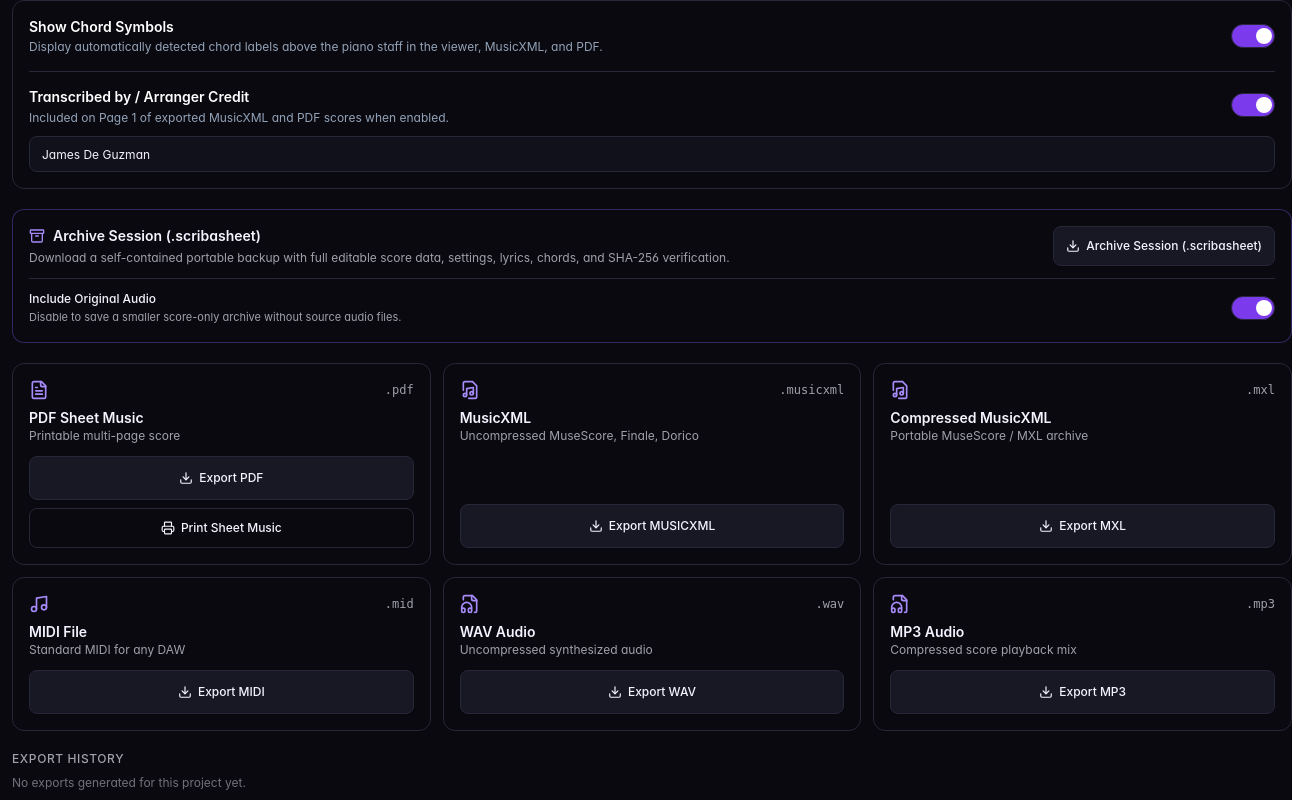
it: ExportCenter Show Chord Symbols toggle › defaults to ON, toggles OFF/ON without re-transcribing, and sends include_chords on export
Later steps or results of the test are not shown.
Step 1. Click the switch named "show chord symbols" → x=1253, y=36, box 1231,24 -> 1275,48
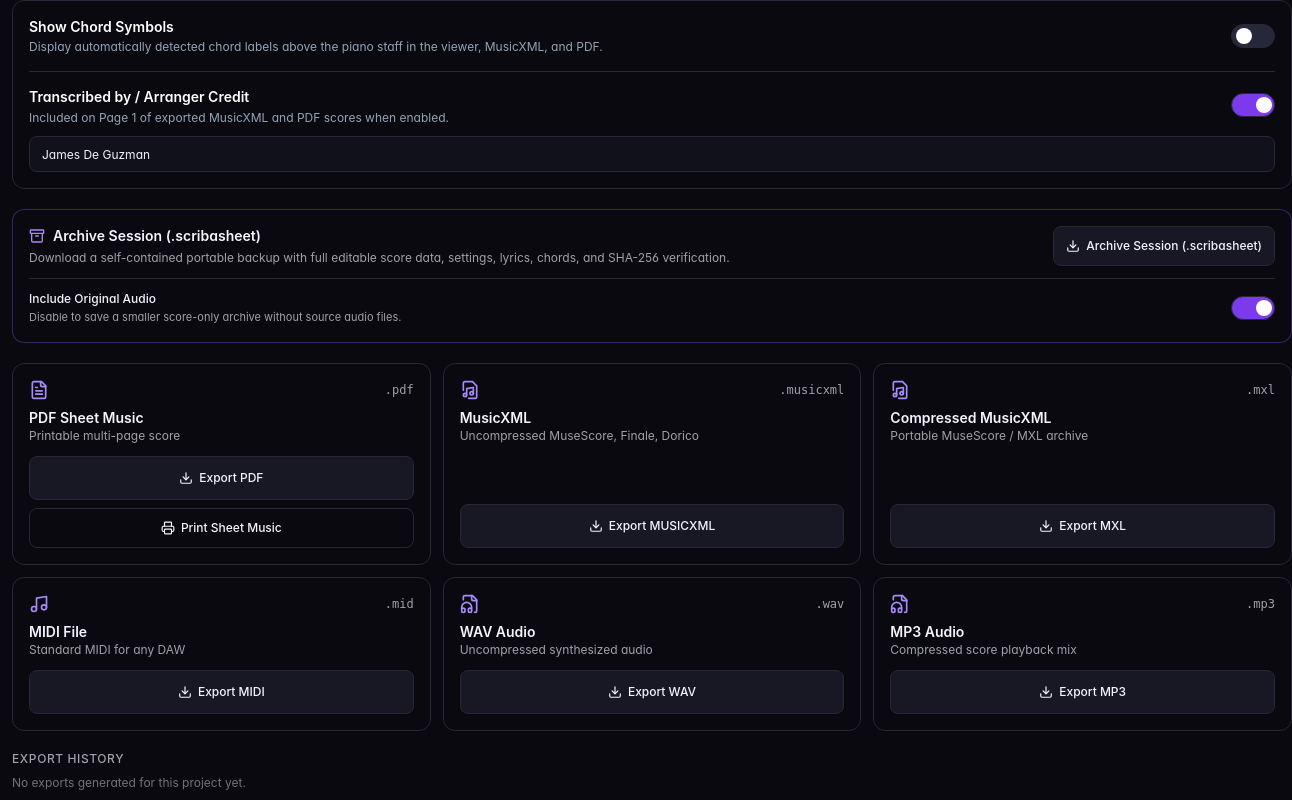
expect the switch named "show chord symbols" is not checked: met, box 1231,24 -> 1275,48
# Export PDF with toggle OFF
Step 2. Click the button "Export PDF" → x=221, y=478, box 29,456 -> 414,500
# Switch back ON and regenerate PDF
Step 3. Click the switch named "show chord symbols" → x=1253, y=36, box 1231,24 -> 1275,48
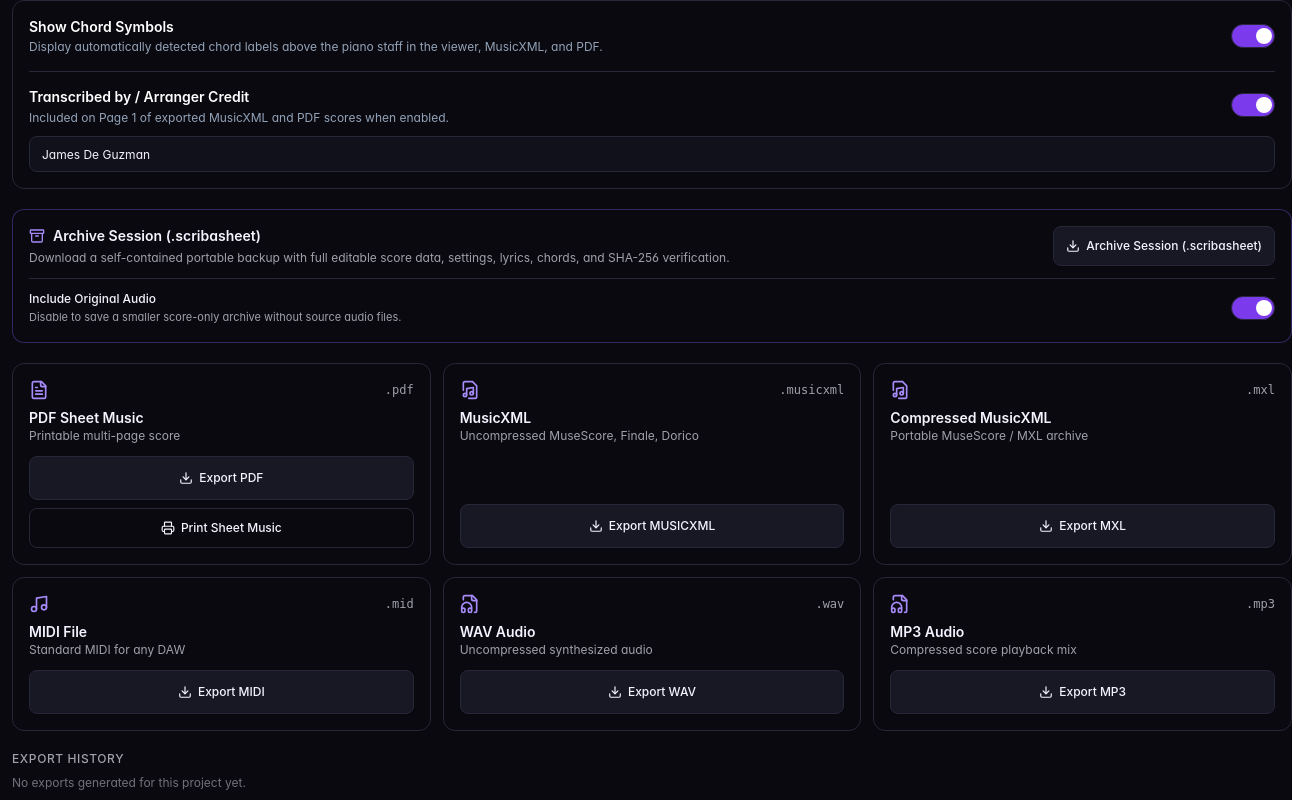
expect the switch named "show chord symbols" is checked: met, box 1231,24 -> 1275,48
